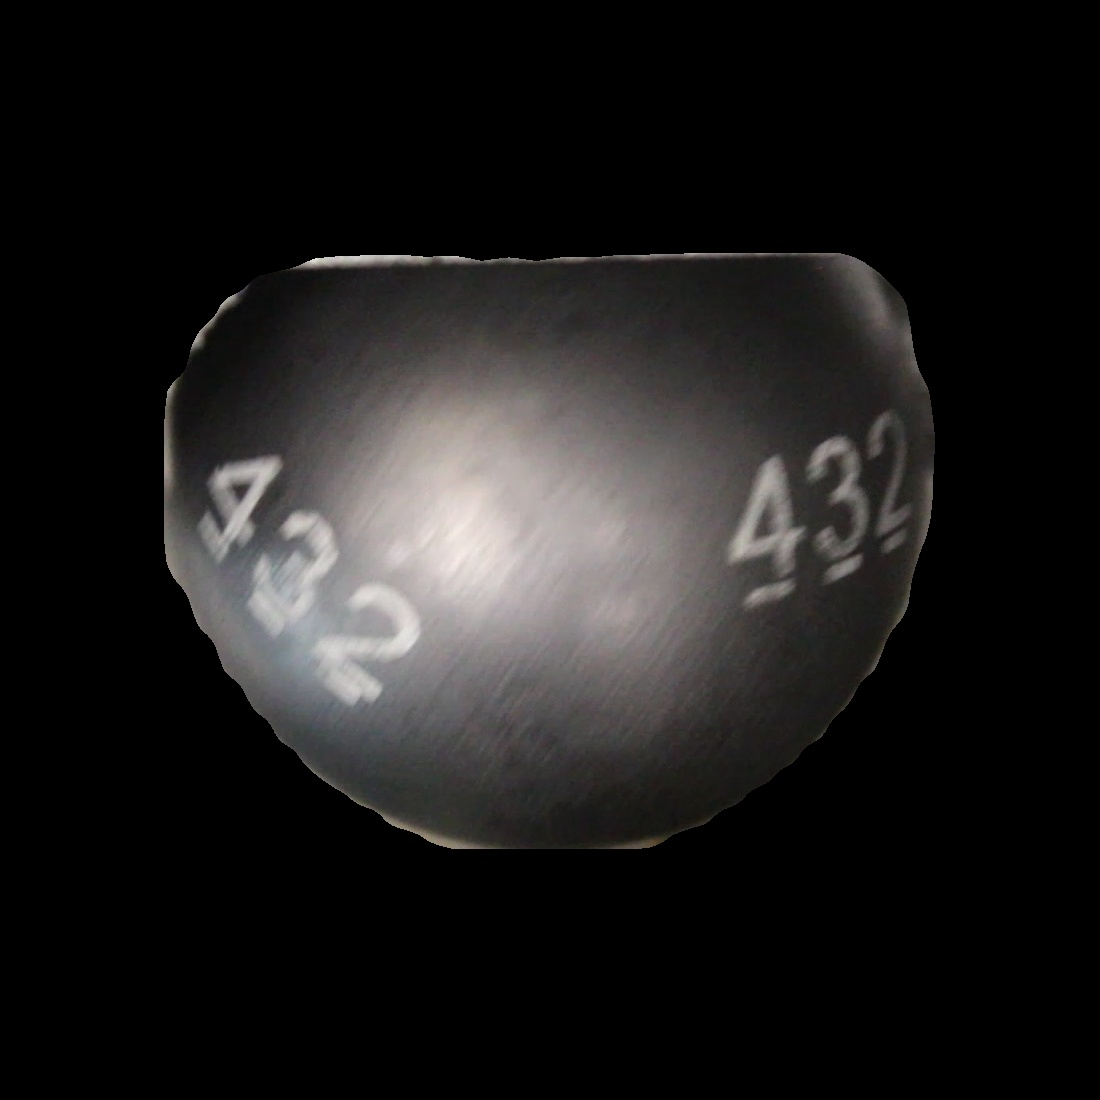digits: (726, 412, 919, 611)
